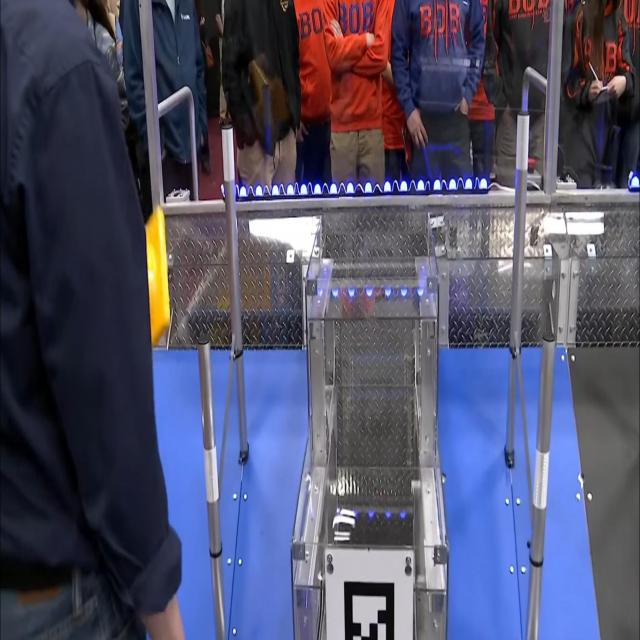frc_cone: (142, 210, 170, 348)
